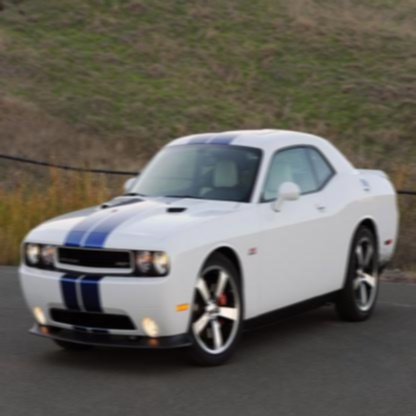Vehicle: (20, 128, 398, 364)
